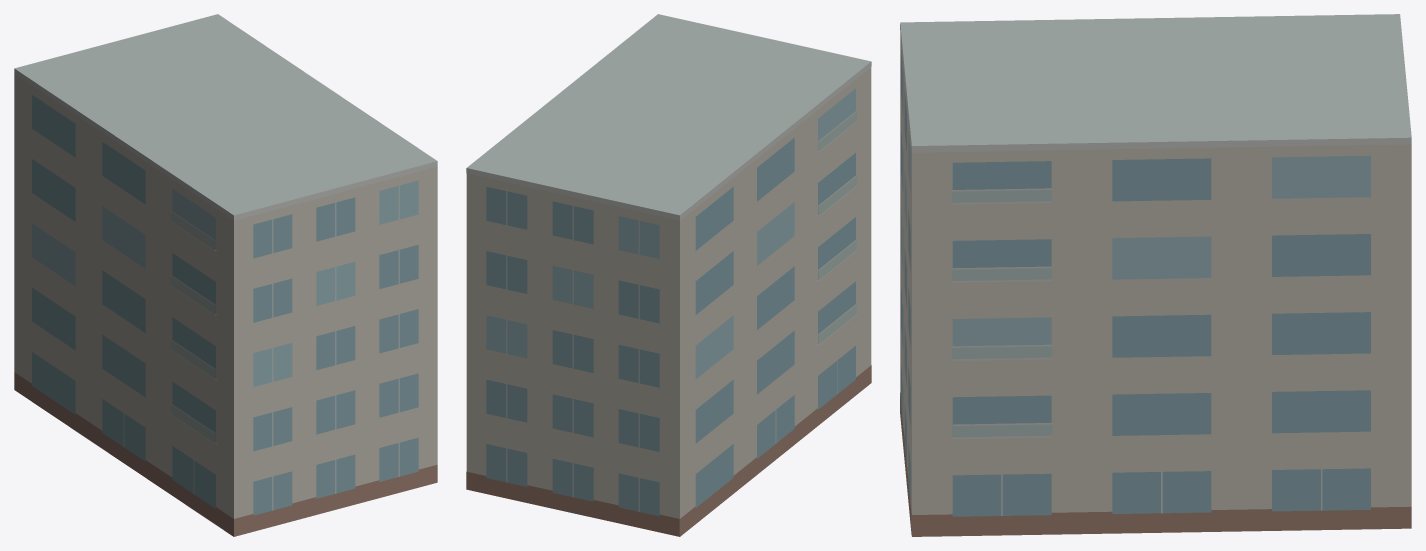
The model's file is survey-upis-32977592.glb.
3 renders of one model, left to right at view 1: azimuth 30°, elevation 25°; view 2: azimuth 150°, elevation 25°; view 3: azimuth 270°, elevation 25°, orthographic. The views are drawn at different scales.
Parts seen in each view (by area): view 1: survey-upis-32977592.tmp; view 2: survey-upis-32977592.tmp; view 3: survey-upis-32977592.tmp.
Part boxes in pixels (<box>): survey-upis-32977592.tmp: <box>14,14,437,536</box>; survey-upis-32977592.tmp: <box>466,14,871,536</box>; survey-upis-32977592.tmp: <box>900,14,1411,536</box>.
Bounding box in the file's own units: 10.66 × 14.7 × 17.45.
